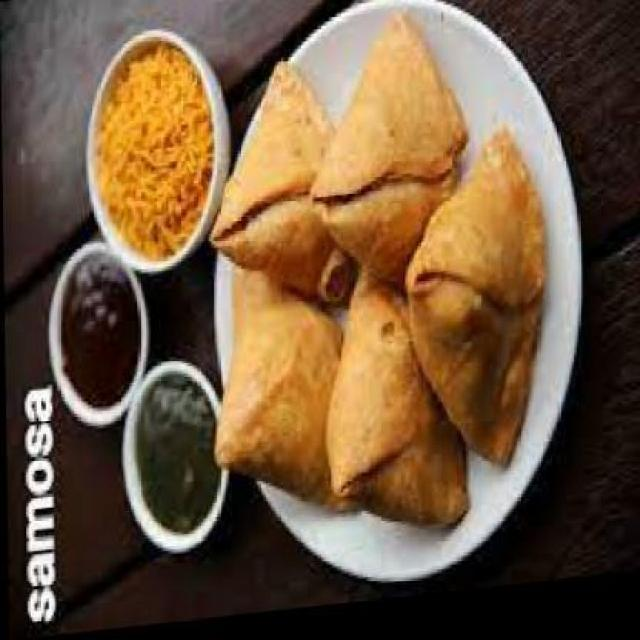samosa: (406, 139, 546, 486), (308, 18, 468, 300), (212, 260, 357, 534), (325, 278, 469, 550), (209, 58, 354, 322)
